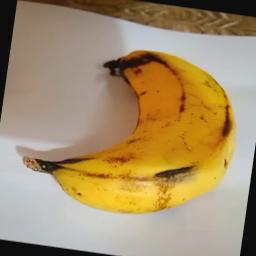Banana Unripe: (31, 34, 247, 225)
